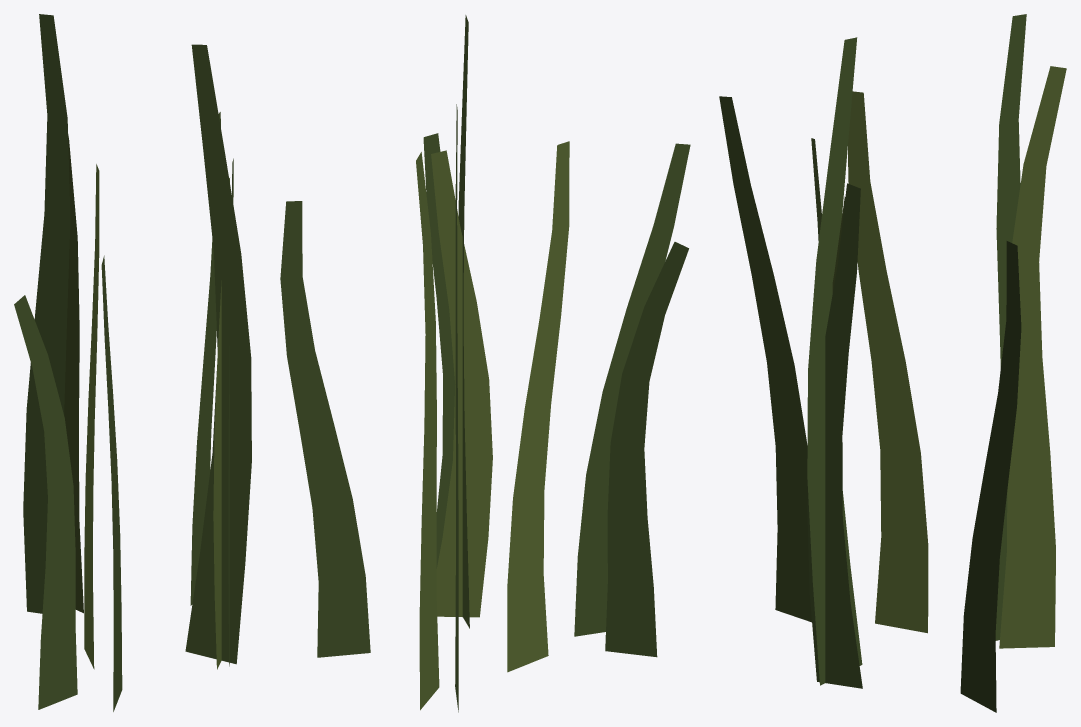
File: kelp_clump_b.glb
3 renders of one model, left to right at view 1: azimuth 30°, elevation 25°; view 2: azimuth 150°, elevation 25°; view 3: azimuth 270°, elevation 25°, orthographic. The views are drawn at different scales.
Visible parts, largest first — view 1: kelp_clump_b; view 2: kelp_clump_b; view 3: kelp_clump_b.
Part boxes in pixels (left/top/right/bottom): kelp_clump_b: left=14, top=14, right=251, bottom=711; kelp_clump_b: left=280, top=15, right=690, bottom=712; kelp_clump_b: left=719, top=14, right=1066, bottom=712.
Bounding box in the file's own units: 1.97 × 3.74 × 1.85.
